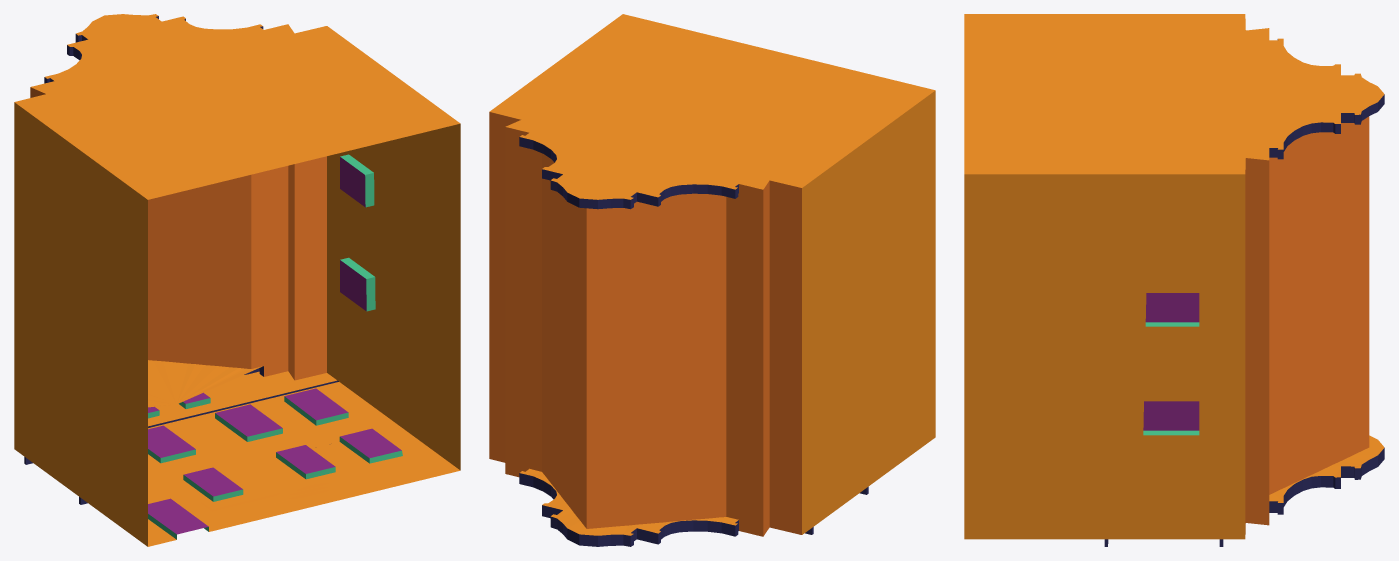
File: Dom_Gaski_Tier_3.fbx
3 views of the same model, side by side, from view 1: azimuth 30°, elevation 25°; view 2: azimuth 150°, elevation 25°; view 3: azimuth 270°, elevation 25° (orthographic). The views are drawn at different scales.
Visible parts, largest first — view 1: dom_gąski_w_radomiu_2; view 2: dom_gąski_w_radomiu_2; view 3: dom_gąski_w_radomiu_2.
Boxes of the visible parts, bbox=[...] form: dom_gąski_w_radomiu_2: bbox=[14, 14, 460, 546]; dom_gąski_w_radomiu_2: bbox=[489, 14, 935, 546]; dom_gąski_w_radomiu_2: bbox=[964, 14, 1384, 546].
Size of the model in its own units: 2.94 by 3.19 by 3.26.
